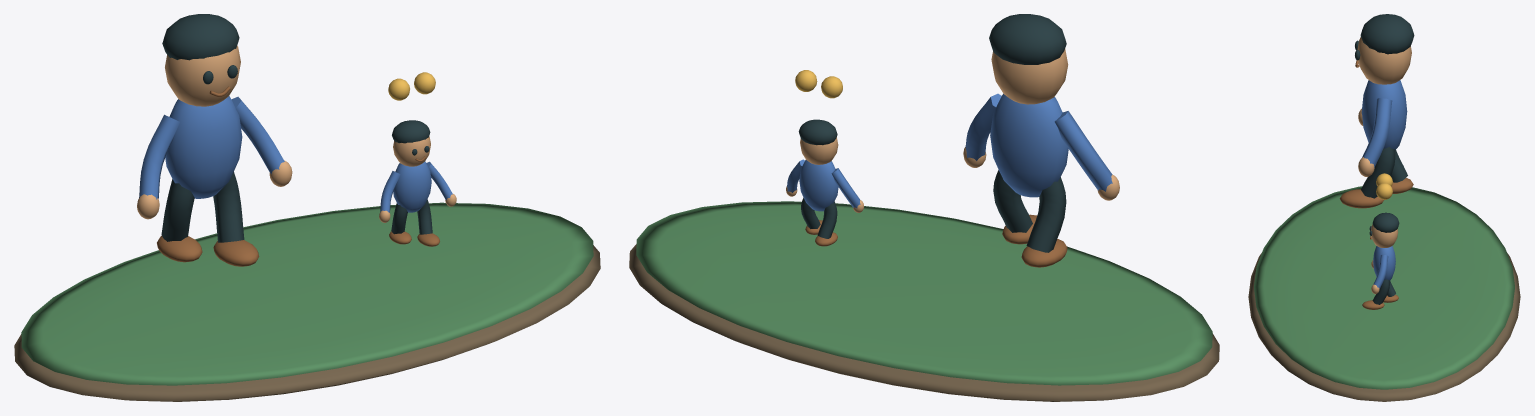
File: complete-second-person-two.glb
The picture shows the model from 3 angles, left to right: view 1: azimuth 30°, elevation 25°; view 2: azimuth 150°, elevation 25°; view 3: azimuth 270°, elevation 25°; orthographic projection. The views are drawn at different scales.
Parts seen in each view (by area): view 1: complete-second-person-two_surface_01, complete-second-person-two_surface_05, complete-second-person-two_surface_00, complete-second-person-two_surface_03, complete-second-person-two_surface_02, complete-second-person-two_surface_04, complete-second-person-two_surface_06; view 2: complete-second-person-two_surface_01, complete-second-person-two_surface_05, complete-second-person-two_surface_00, complete-second-person-two_surface_03, complete-second-person-two_surface_02, complete-second-person-two_surface_04, complete-second-person-two_surface_06; view 3: complete-second-person-two_surface_01, complete-second-person-two_surface_00, complete-second-person-two_surface_05, complete-second-person-two_surface_03, complete-second-person-two_surface_02, complete-second-person-two_surface_04, complete-second-person-two_surface_06.
Part boxes in pixels (x1,y1,x2,y2): complete-second-person-two_surface_01: [21, 202, 593, 385]; complete-second-person-two_surface_05: [139, 96, 452, 212]; complete-second-person-two_surface_00: [14, 245, 600, 401]; complete-second-person-two_surface_03: [161, 14, 432, 242]; complete-second-person-two_surface_02: [137, 45, 456, 222]; complete-second-person-two_surface_04: [157, 86, 439, 266]; complete-second-person-two_surface_06: [388, 72, 435, 100]; complete-second-person-two_surface_01: [636, 201, 1212, 385]; complete-second-person-two_surface_05: [787, 93, 1112, 211]; complete-second-person-two_surface_00: [629, 244, 1219, 401]; complete-second-person-two_surface_03: [798, 14, 1066, 252]; complete-second-person-two_surface_02: [786, 48, 1119, 212]; complete-second-person-two_surface_04: [805, 214, 1067, 267]; complete-second-person-two_surface_06: [795, 70, 842, 98]; complete-second-person-two_surface_01: [1254, 186, 1514, 389]; complete-second-person-two_surface_00: [1248, 253, 1520, 401]; complete-second-person-two_surface_05: [1361, 80, 1407, 289]; complete-second-person-two_surface_03: [1355, 14, 1414, 304]; complete-second-person-two_surface_02: [1357, 37, 1411, 294]; complete-second-person-two_surface_04: [1339, 60, 1413, 309]; complete-second-person-two_surface_06: [1376, 173, 1392, 199].
Size of the model in its own units: 4.56 by 2.56 by 2.5.
